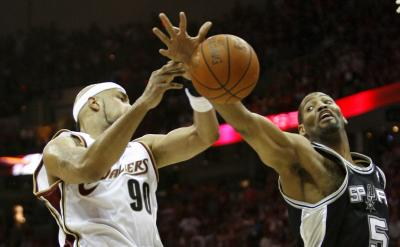basketball: (192, 33, 259, 103)
